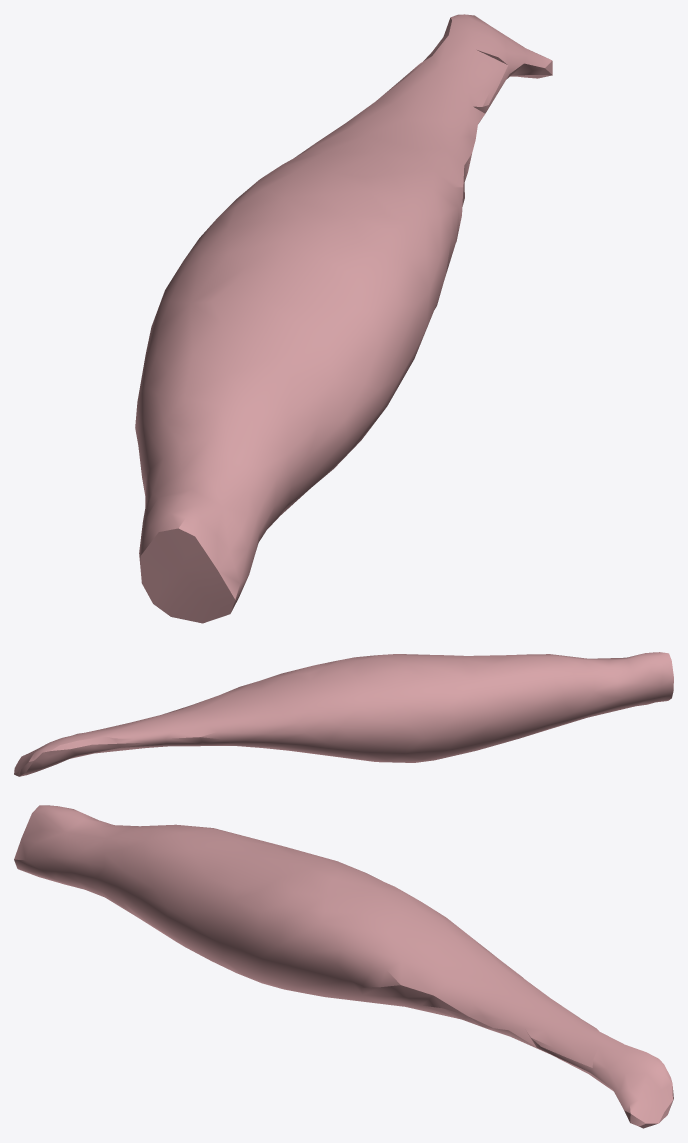
Rendered from fma47243_mm1725m.glb.
The picture shows the model from 3 angles, top to bottom: view 1: azimuth 30°, elevation 25°; view 2: azimuth 150°, elevation 25°; view 3: azimuth 270°, elevation 25°; orthographic projection. The views are drawn at different scales.
Visible parts, largest first — view 1: FMA47243_MM1725M; view 2: FMA47243_MM1725M; view 3: FMA47243_MM1725M.
Boxes of the visible parts, bbox=[...] form: FMA47243_MM1725M: bbox=[135, 14, 552, 623]; FMA47243_MM1725M: bbox=[14, 652, 673, 776]; FMA47243_MM1725M: bbox=[14, 805, 673, 1128].
Bounding box in the file's own units: 0.0603 × 0.0123 × 0.0622.
